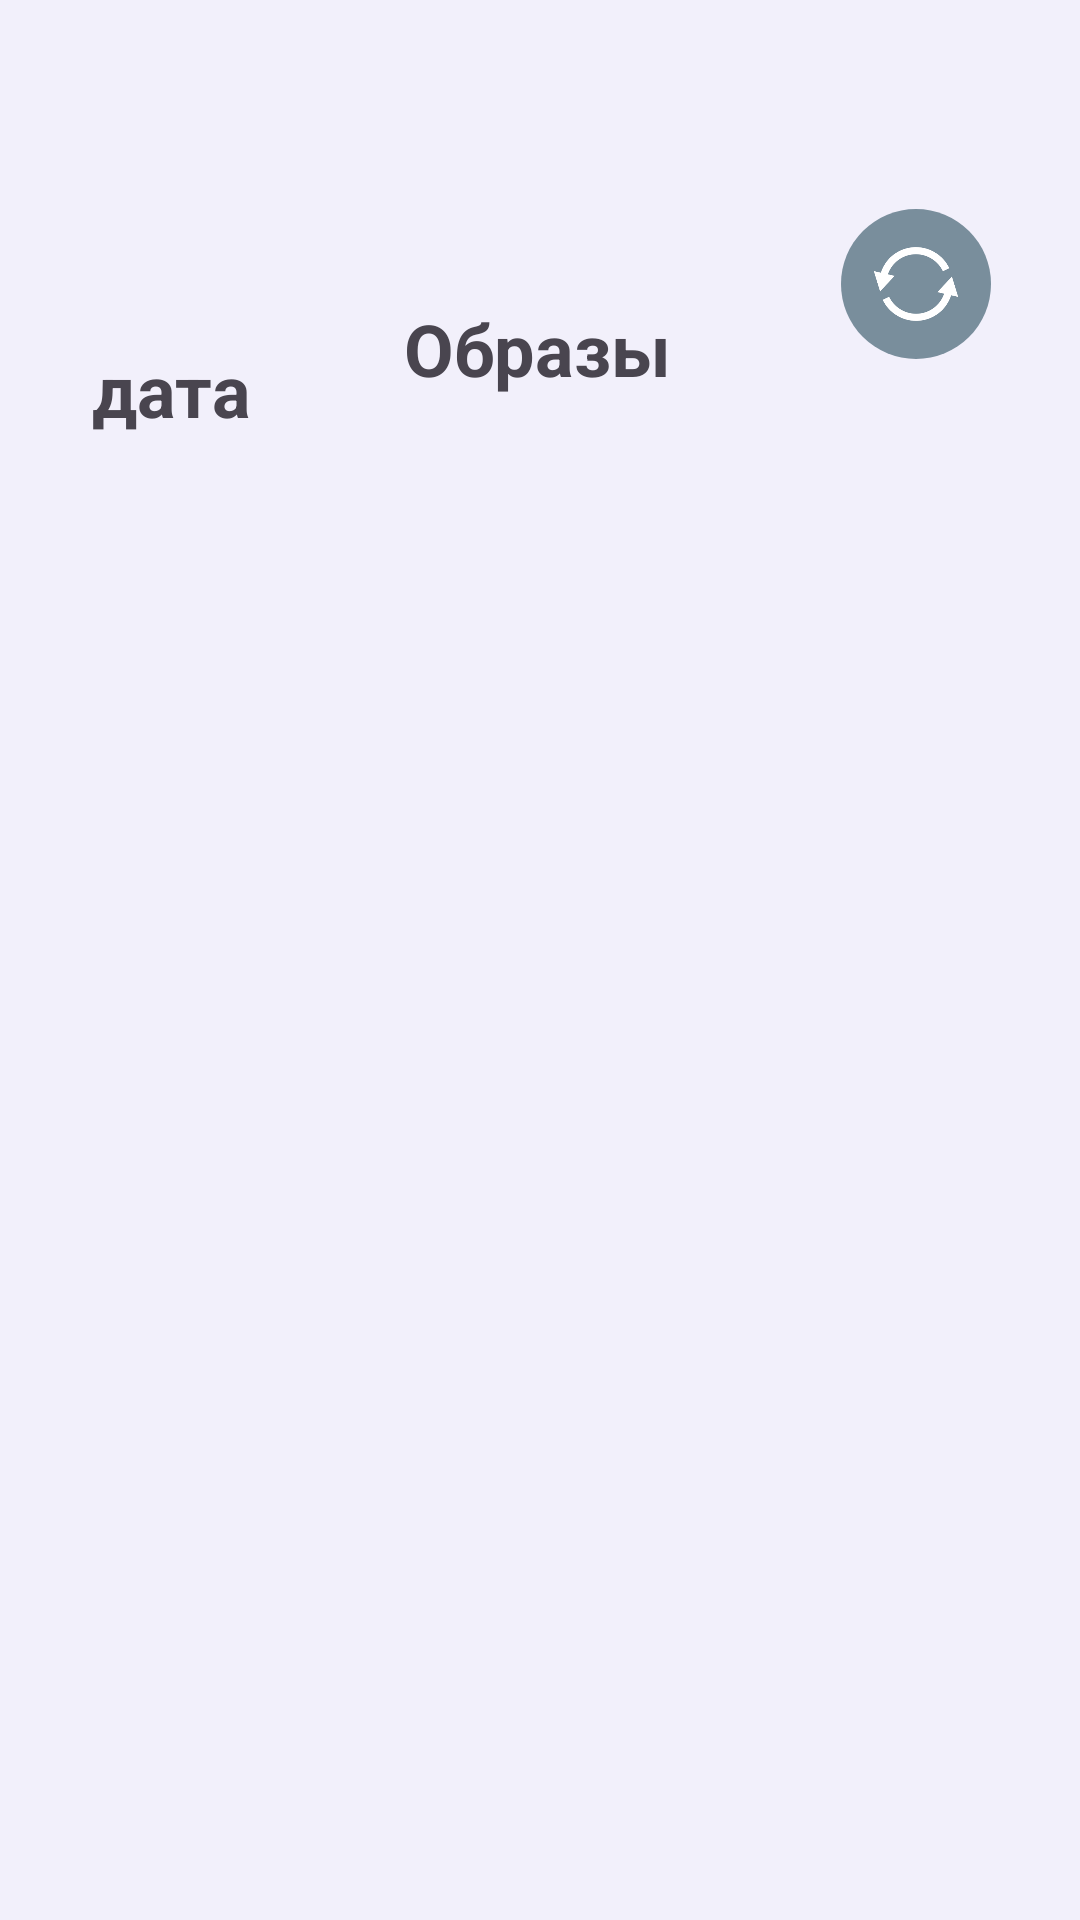

Screen size 1080×1920. Icon name, then its center in pixels as point (x, y):
refresh: point (916, 284)
